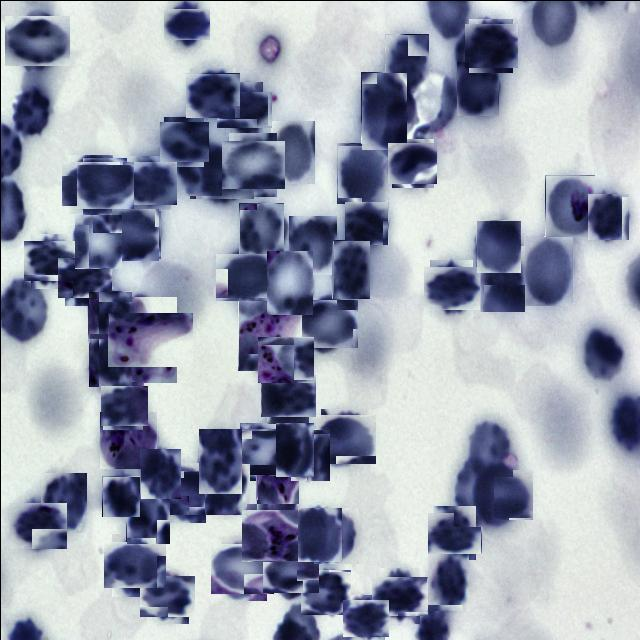red blood cell: (468, 464, 528, 524), (360, 71, 406, 149), (524, 235, 574, 305), (7, 11, 65, 69), (212, 540, 270, 596), (193, 148, 249, 204), (224, 136, 280, 192), (478, 244, 524, 311), (318, 410, 372, 466), (298, 296, 354, 350), (106, 538, 162, 592), (266, 250, 312, 314), (336, 142, 384, 203), (218, 250, 272, 304), (288, 215, 336, 274), (198, 428, 241, 493), (270, 120, 314, 183), (40, 472, 86, 532), (453, 457, 493, 526), (236, 425, 288, 477), (156, 466, 208, 518), (11, 499, 63, 551), (78, 160, 130, 212), (466, 418, 512, 476), (64, 158, 116, 209), (74, 213, 122, 268), (260, 334, 312, 384), (384, 33, 428, 92), (313, 507, 358, 563), (426, 262, 476, 312), (188, 69, 238, 119), (262, 370, 312, 420), (109, 209, 159, 259), (177, 139, 221, 195), (255, 474, 298, 531), (426, 552, 468, 610), (238, 202, 283, 256), (142, 572, 192, 620), (124, 158, 174, 206), (466, 20, 514, 70), (475, 219, 520, 272), (297, 507, 341, 561), (266, 548, 314, 597), (88, 332, 131, 386), (375, 572, 423, 620), (301, 567, 349, 615), (60, 254, 108, 302), (430, 508, 478, 556), (204, 463, 249, 514), (88, 290, 132, 342), (125, 491, 169, 543), (456, 61, 498, 115), (26, 237, 74, 284), (11, 85, 53, 138), (332, 239, 369, 298), (584, 326, 622, 382), (220, 86, 266, 132), (389, 140, 435, 186), (160, 118, 206, 164), (289, 428, 329, 480), (275, 422, 313, 476), (140, 448, 180, 498), (586, 192, 628, 239), (344, 200, 388, 244), (101, 383, 145, 427), (344, 596, 386, 638), (101, 475, 139, 516), (166, 4, 205, 43)
trophozoite: (114, 304, 184, 374), (237, 296, 301, 370), (244, 506, 302, 564), (100, 411, 158, 468), (544, 174, 594, 237)
